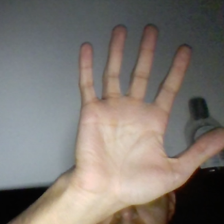left: (67, 18, 224, 206)
